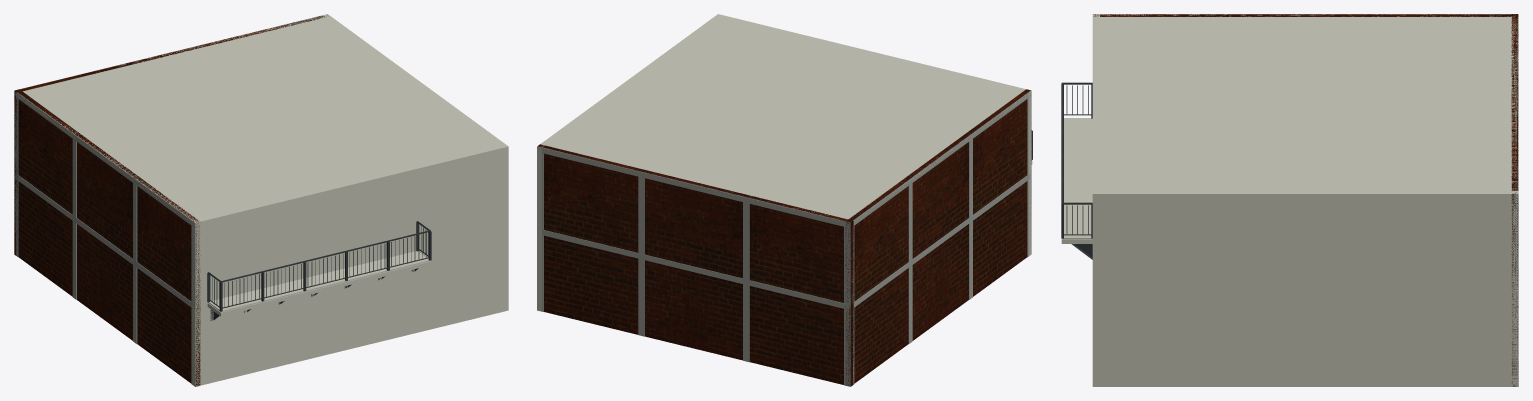
The model's file is building.glb.
The picture shows the model from 3 angles, left to right: view 1: azimuth 30°, elevation 25°; view 2: azimuth 150°, elevation 25°; view 3: azimuth 270°, elevation 25°; orthographic projection. The views are drawn at different scales.
Visible parts, largest first — view 1: roof/house:0/roof_slab#0001, house:0/edge0/z0/house:0/edge0/z0/wall_0_0, house:0/edge3/z0/house:0/edge3/z0/wall_0_0, balcony/sample/balcony_platform#0001, house:0/edge2/z0/house:0/edge2/z0/wall_0_0, house:0/edge3/z0/house:0/edge3/z0/beam_0_0, house:0/edge3/z0/house:0/edge3/z0/beam_1_0, house:0/edge1/z0/house:0/edge1/z0/wall_0_0, balcony/sample/balcony_fascia#0001, balcony/sample/balcony_handrail#0001; view 2: roof/house:0/roof_slab#0001, house:0/edge2/z0/house:0/edge2/z0/wall_0_0, house:0/edge3/z0/house:0/edge3/z0/wall_0_0, house:0/edge1/z0/house:0/edge1/z0/wall_0_0, house:0/edge2/z0/house:0/edge2/z0/beam_1_0, house:0/edge2/z0/house:0/edge2/z0/beam_0_0, house:0/edge0/z0/house:0/edge0/z0/wall_0_0, house:0/edge3/z0/house:0/edge3/z0/beam_0_0, house:0/edge3/z0/house:0/edge3/z0/beam_1_0, house:0/edge2/z0/house:0/edge2/z0/column_2_0, house:0/edge2/z0/house:0/edge2/z0/column_2_1, house:0/edge2/z0/house:0/edge2/z0/column_3_0 (+3 smaller); view 3: house:0/edge1/z0/house:0/edge1/z0/wall_0_0, roof/house:0/roof_slab#0001, balcony/sample/balcony_platform#0001, house:0/edge0/z0/house:0/edge0/z0/wall_0_0, house:0/edge2/z0/house:0/edge2/z0/wall_0_0, house:0/edge3/z0/house:0/edge3/z0/wall_0_0, balcony/sample/balcony_handrail#0001.
Part boxes in pixels (x1,y1,x2,y2): roof/house:0/roof_slab#0001: [15, 14, 506, 225]; house:0/edge0/z0/house:0/edge0/z0/wall_0_0: [192, 144, 508, 386]; house:0/edge3/z0/house:0/edge3/z0/wall_0_0: [17, 89, 200, 386]; balcony/sample/balcony_platform#0001: [208, 251, 429, 312]; house:0/edge2/z0/house:0/edge2/z0/wall_0_0: [14, 15, 327, 255]; house:0/edge3/z0/house:0/edge3/z0/beam_0_0: [14, 173, 195, 309]; house:0/edge3/z0/house:0/edge3/z0/beam_1_0: [14, 92, 195, 227]; house:0/edge1/z0/house:0/edge1/z0/wall_0_0: [323, 14, 508, 311]; balcony/sample/balcony_fascia#0001: [207, 261, 430, 316]; balcony/sample/balcony_handrail#0001: [207, 221, 430, 282]; roof/house:0/roof_slab#0001: [540, 14, 1031, 223]; house:0/edge2/z0/house:0/edge2/z0/wall_0_0: [538, 144, 853, 386]; house:0/edge3/z0/house:0/edge3/z0/wall_0_0: [845, 89, 1030, 385]; house:0/edge1/z0/house:0/edge1/z0/wall_0_0: [537, 15, 722, 311]; house:0/edge2/z0/house:0/edge2/z0/beam_1_0: [538, 147, 850, 228]; house:0/edge2/z0/house:0/edge2/z0/beam_0_0: [542, 230, 850, 309]; house:0/edge0/z0/house:0/edge0/z0/wall_0_0: [717, 14, 1031, 256]; house:0/edge3/z0/house:0/edge3/z0/beam_0_0: [850, 172, 1031, 309]; house:0/edge3/z0/house:0/edge3/z0/beam_1_0: [850, 90, 1031, 227]; house:0/edge2/z0/house:0/edge2/z0/column_2_0: [638, 176, 644, 254]; house:0/edge2/z0/house:0/edge2/z0/column_2_1: [638, 258, 644, 336]; house:0/edge2/z0/house:0/edge2/z0/column_3_0: [743, 202, 749, 280]; house:0/edge1/z0/house:0/edge1/z0/wall_0_0: [1092, 191, 1518, 386]; roof/house:0/roof_slab#0001: [1092, 14, 1518, 198]; balcony/sample/balcony_platform#0001: [1063, 118, 1092, 239]; house:0/edge0/z0/house:0/edge0/z0/wall_0_0: [1092, 14, 1099, 386]; house:0/edge2/z0/house:0/edge2/z0/wall_0_0: [1511, 14, 1518, 386]; house:0/edge3/z0/house:0/edge3/z0/wall_0_0: [1093, 14, 1517, 16]; balcony/sample/balcony_handrail#0001: [1061, 82, 1092, 204].
Size of the model in its own units: 12 by 6 by 12.89.
Materials: 4 (1 with a texture image).
